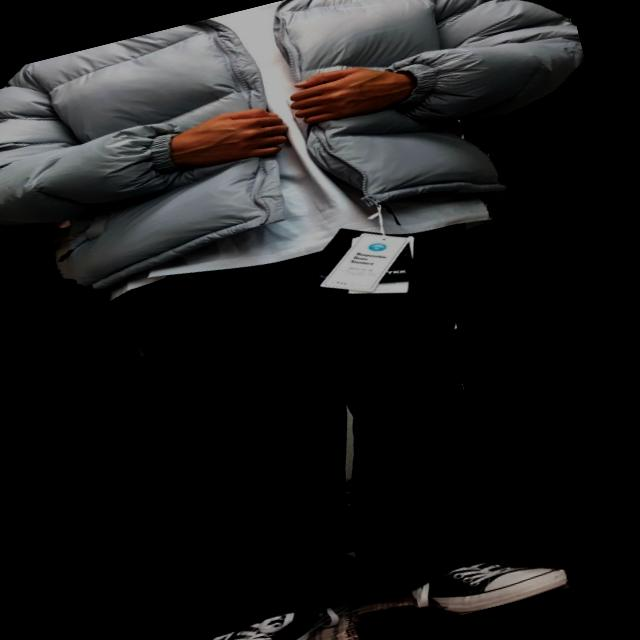padding: (0, 0, 612, 322)
slacks: (126, 198, 548, 636)
